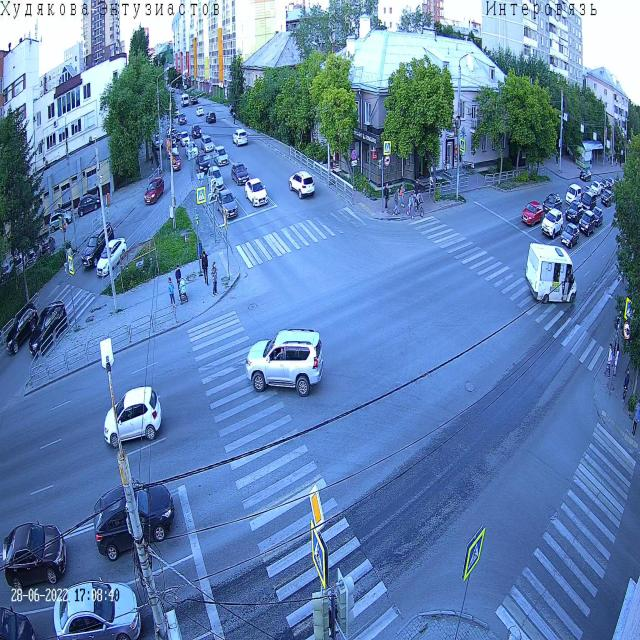bicycle: (413, 190, 424, 218)
car: (92, 478, 176, 562), (52, 574, 141, 640), (244, 327, 324, 398), (2, 519, 68, 592), (28, 300, 68, 358), (6, 301, 40, 355), (81, 221, 115, 268), (0, 603, 36, 640), (96, 236, 127, 276), (288, 169, 316, 200), (540, 207, 564, 240), (245, 177, 268, 208), (216, 188, 238, 220), (522, 200, 544, 228), (144, 176, 165, 205), (578, 208, 596, 238), (560, 222, 580, 249), (580, 188, 597, 218), (564, 199, 584, 224), (207, 166, 224, 194), (231, 161, 250, 186), (542, 193, 562, 216), (195, 150, 211, 177), (565, 182, 582, 207), (213, 145, 229, 167), (232, 128, 248, 148), (200, 134, 214, 154), (591, 206, 603, 228), (185, 140, 198, 160), (580, 184, 594, 202), (170, 152, 182, 172), (167, 141, 179, 159), (601, 188, 612, 207), (590, 180, 602, 197), (580, 167, 592, 182), (180, 130, 190, 147), (154, 133, 164, 150), (191, 124, 202, 139), (606, 176, 616, 191), (170, 130, 182, 142), (206, 111, 216, 124), (167, 134, 177, 147), (178, 112, 187, 126), (166, 124, 175, 138), (600, 178, 608, 193), (172, 105, 180, 118), (196, 106, 204, 118), (191, 96, 198, 105), (189, 95, 195, 103)
pedestrian: (175, 264, 188, 306), (604, 342, 614, 380), (631, 398, 640, 437), (611, 333, 620, 370), (210, 261, 218, 298), (201, 250, 209, 286), (168, 276, 177, 308), (412, 178, 420, 209), (622, 368, 630, 398), (406, 192, 414, 220), (612, 350, 620, 378), (383, 182, 390, 212), (428, 172, 434, 198), (393, 188, 398, 216), (400, 182, 405, 208), (395, 188, 400, 214), (621, 385, 627, 403), (434, 173, 438, 198), (150, 152, 155, 171), (555, 150, 559, 166), (589, 156, 592, 173), (233, 110, 236, 126), (616, 156, 618, 168), (610, 153, 612, 164), (608, 154, 610, 164), (620, 158, 622, 168)
shuttle_taxi: (525, 241, 577, 306), (181, 93, 189, 108)
